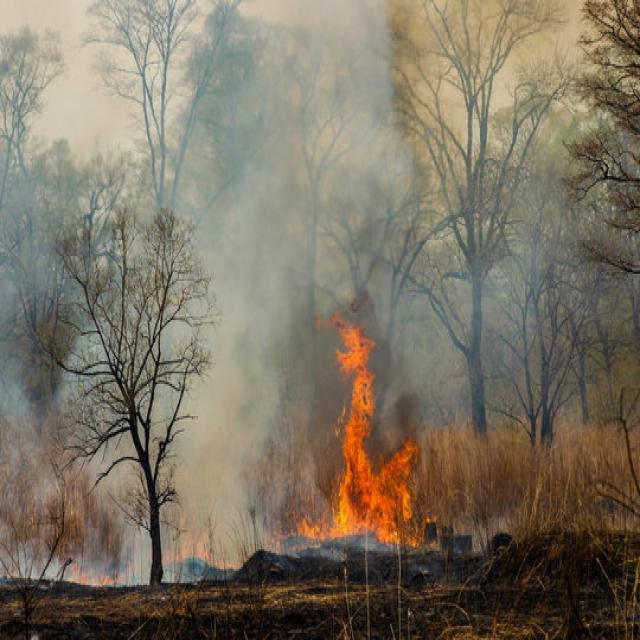Fire: (321, 318, 418, 550)
Smoke: (185, 5, 404, 252), (8, 19, 106, 404), (154, 272, 279, 570)
